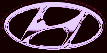Hyundai: (2, 1, 107, 53)
